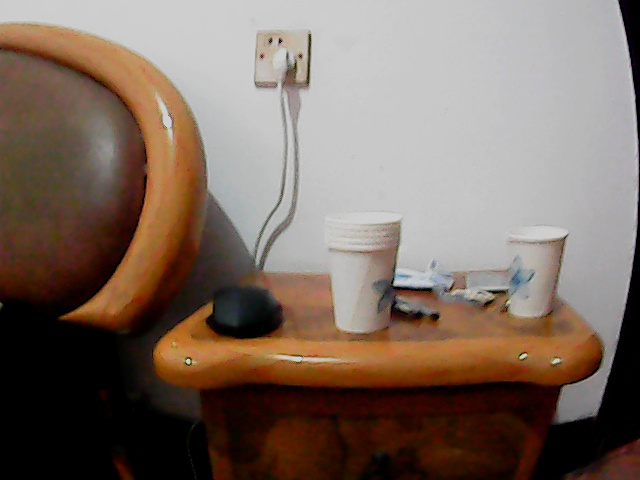cup: (326, 214, 404, 334)
mouse: (204, 279, 284, 339)
